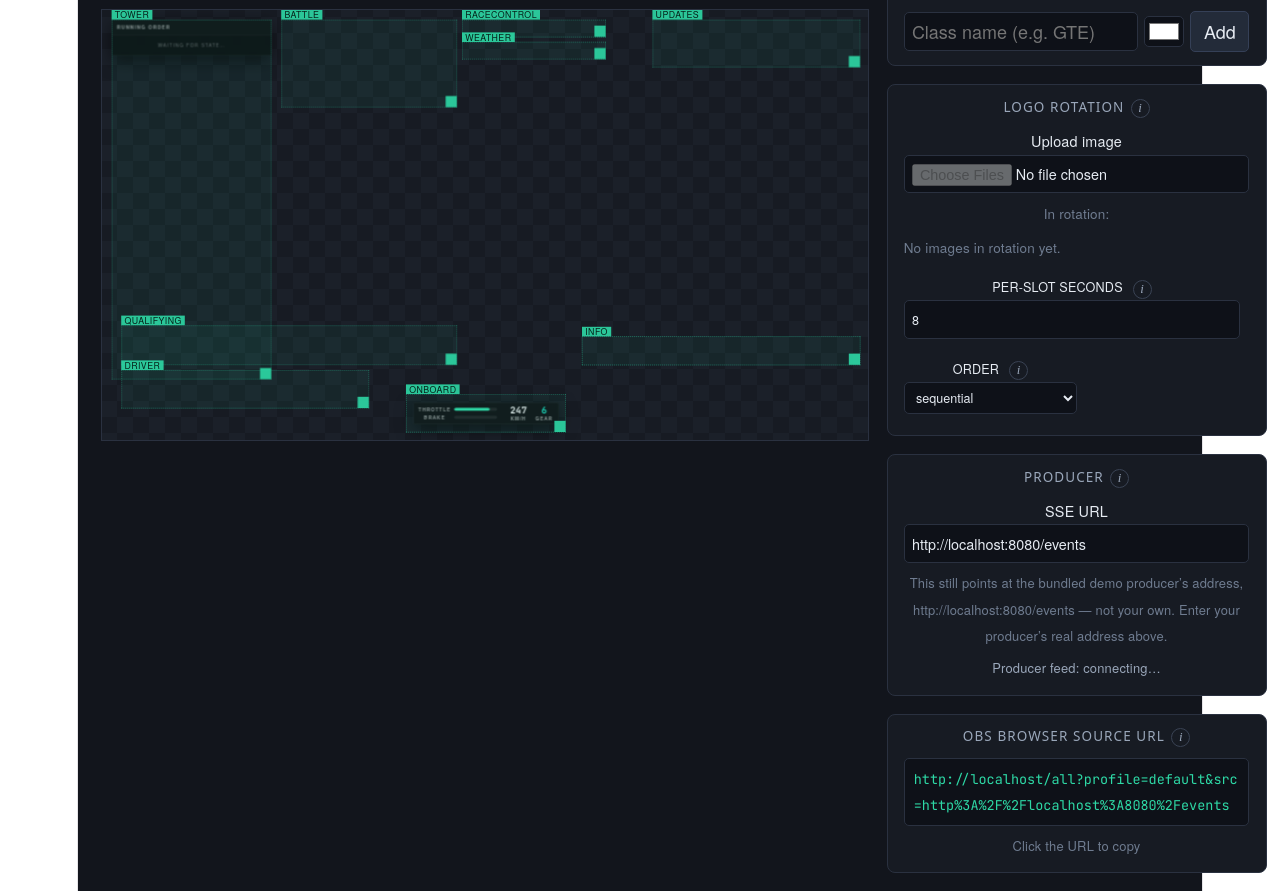
Test: rule 25 — the two not-connected states, told apart by the transport (#160) › reads stopped, not retrying, for a URL the browser refuses to construct
(page scrolled)
Type "http://" into the field with test id "producer-src".
click(1076, 544); type("http://")  # box [904,524,1249,563]
Wait 500 ms
(page scrolled)
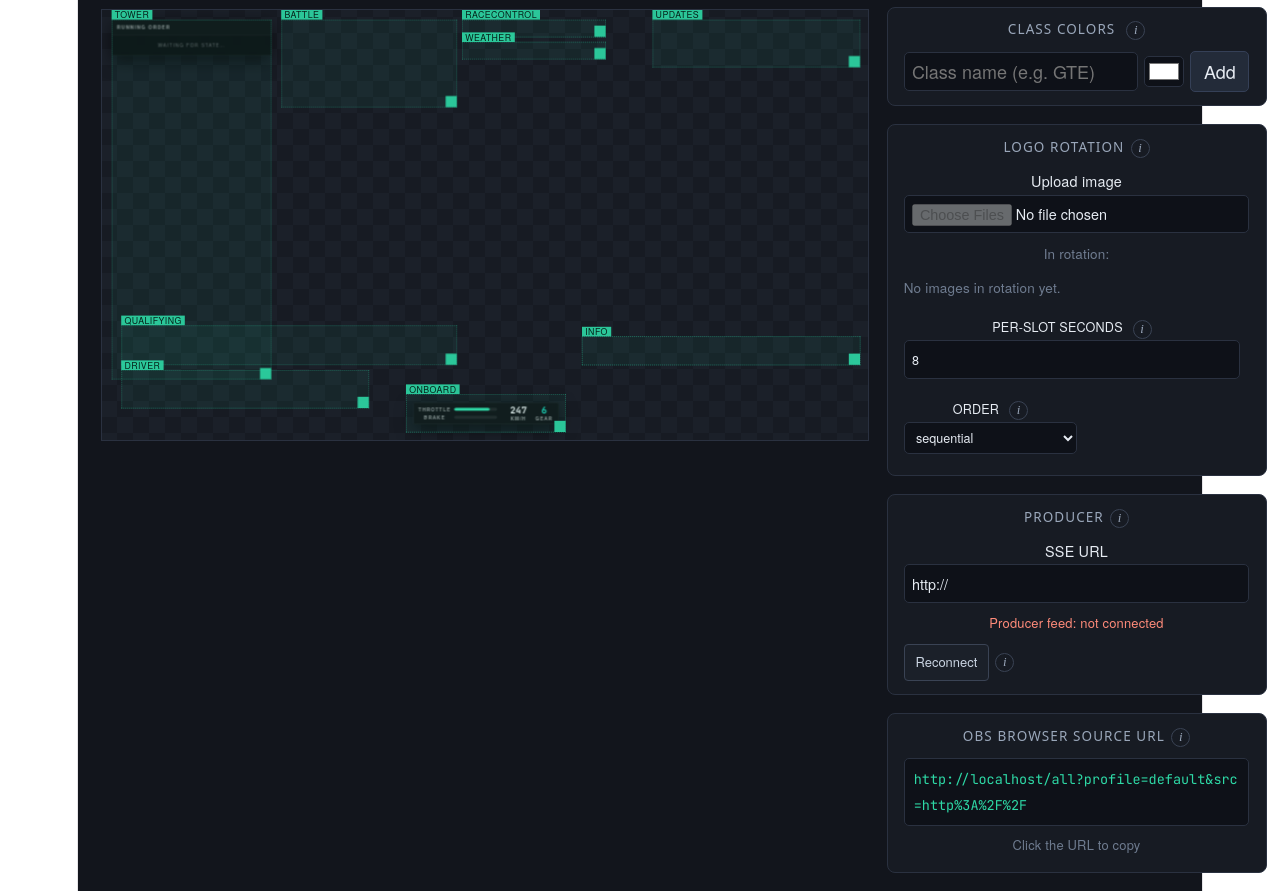
Expected: the message with test id "feed-status" reads "Producer feed: not connected", [989,614,1164,632]
